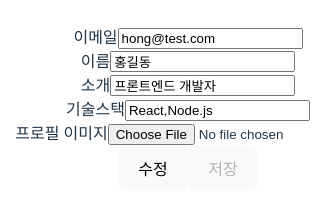
Test case: Profile Page UI & Functionality › enables editing and saves changes
The width and height of the screenshot is (327, 218).
Step 1. Click the button with test id "profile-edit-btn" → (153, 168), box [118,145,188,191]
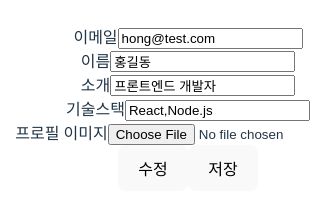
Step 2. Replace the text in the field with test id "profile-name-input" with "New Name" → (203, 62), box [110,51,295,72]
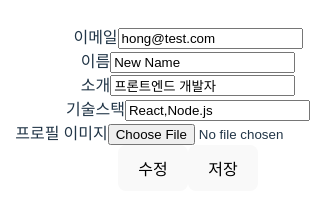
Step 3. Click the button with test id "profile-save-btn" → (223, 168), box [188,145,258,191]
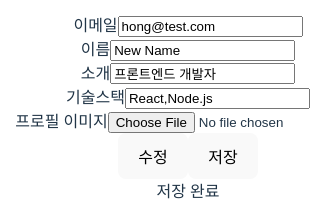
Result: the text "저장 완료" is shown at [156,180,220,202]
